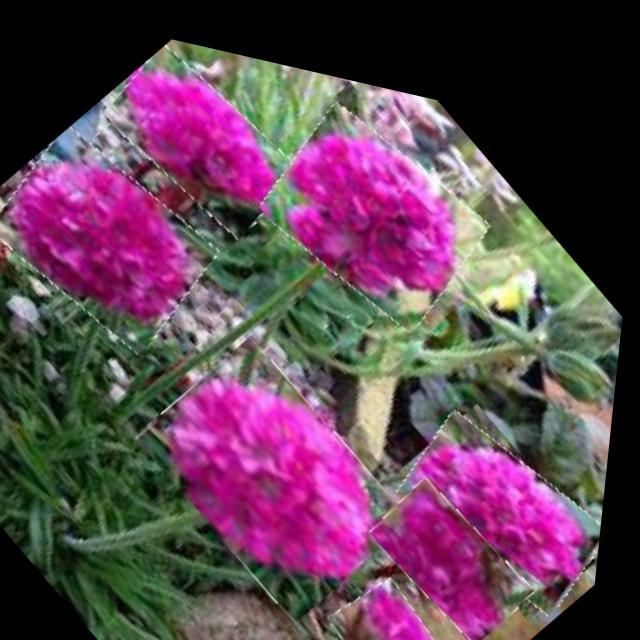Flower: (128, 303, 435, 629), (240, 52, 512, 345), (0, 89, 240, 376), (385, 356, 617, 617), (90, 19, 312, 248), (369, 441, 552, 635), (326, 544, 495, 640)
